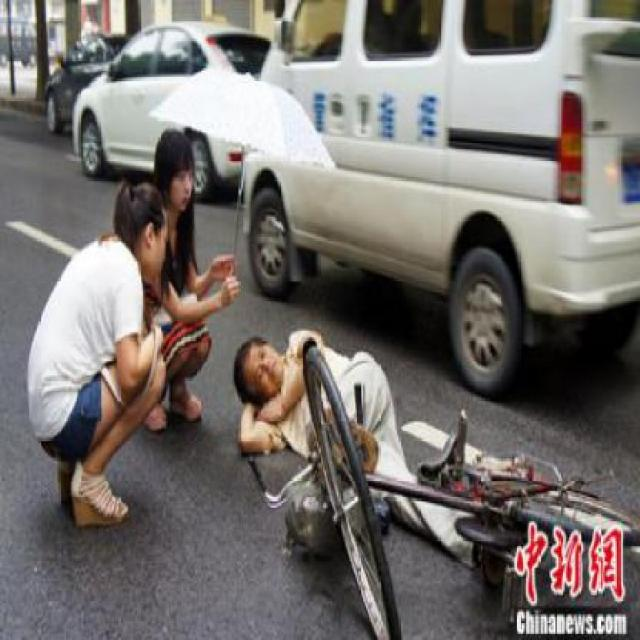fall: (216, 307, 439, 547)
